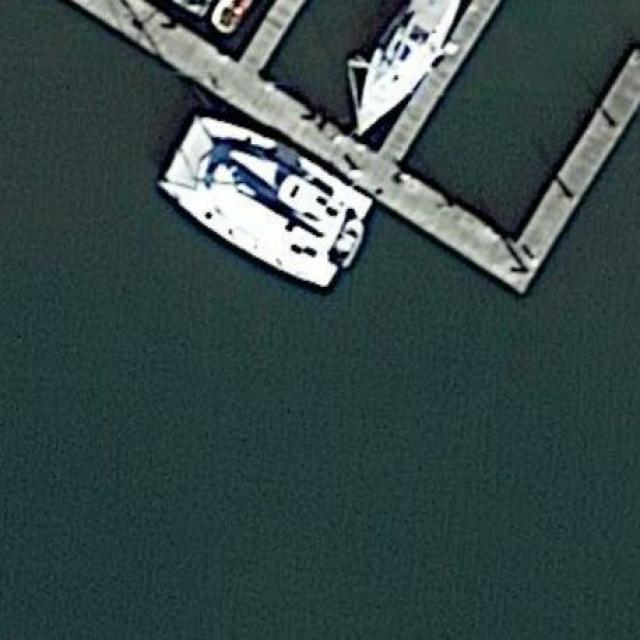boat: (148, 112, 376, 298), (346, 0, 469, 143)
